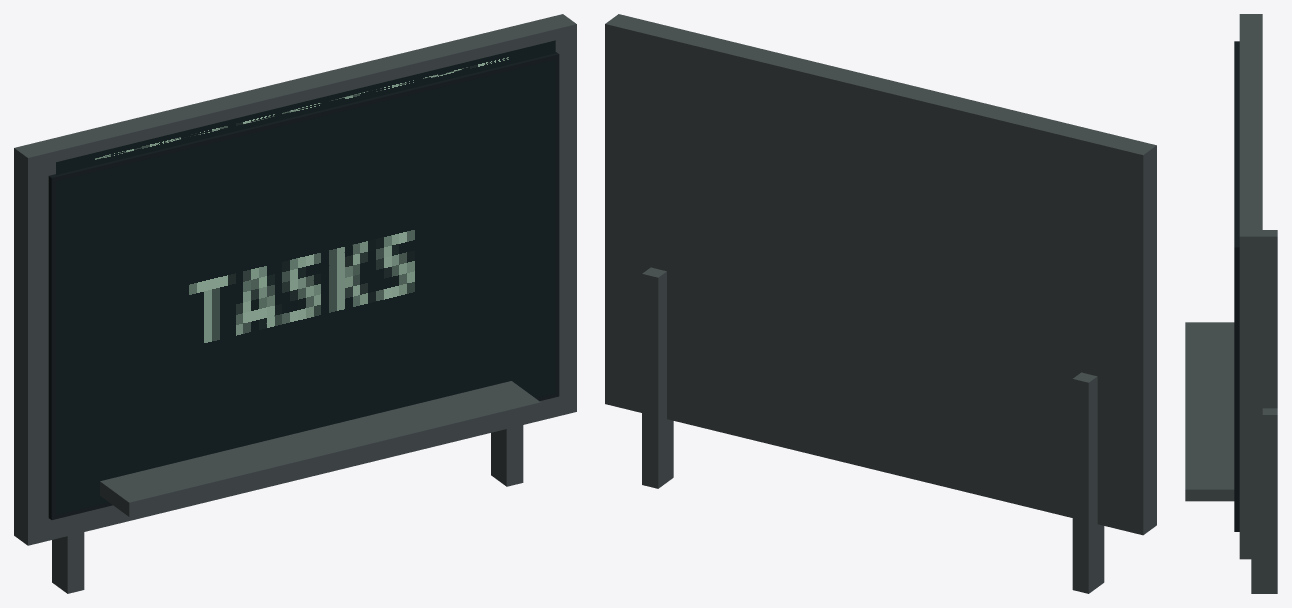
File: blender_objective_board_3.glb
3 renders of one model, left to right at view 1: azimuth 30°, elevation 25°; view 2: azimuth 150°, elevation 25°; view 3: azimuth 270°, elevation 25°, orthographic. The views are drawn at different scales.
Visible parts, largest first — view 1: blender_objective_board_3; view 2: blender_objective_board_3; view 3: blender_objective_board_3.
Part boxes in pixels (x1,y1,x2,y2): blender_objective_board_3: [14, 14, 576, 593]; blender_objective_board_3: [605, 14, 1156, 593]; blender_objective_board_3: [1185, 14, 1277, 593].
Size of the model in its own units: 0.8 by 0.63 by 0.14.
1 material, 1 textured.
